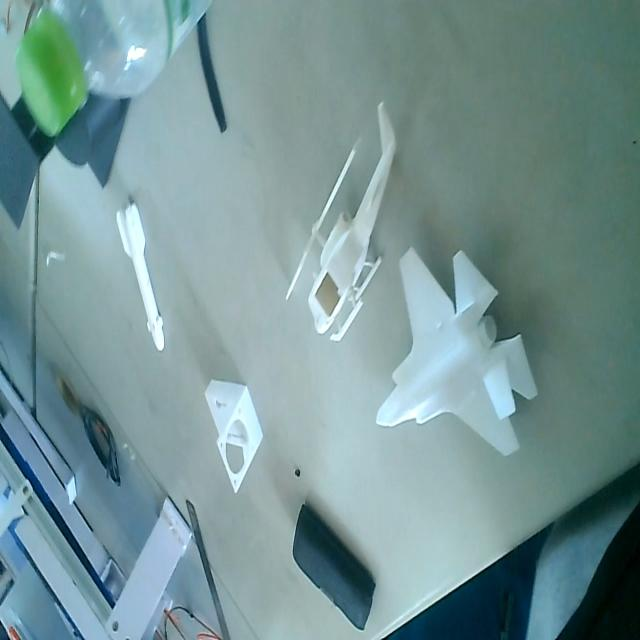Helicopter: (285, 90, 399, 351)
Jet: (372, 248, 542, 484)
Rocket: (114, 192, 168, 364)
